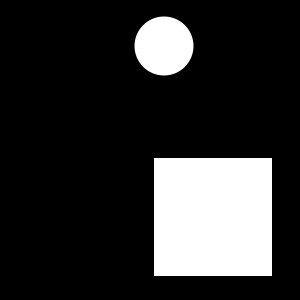circle: (154, 158, 272, 276)
rectangle: (134, 16, 194, 76)
